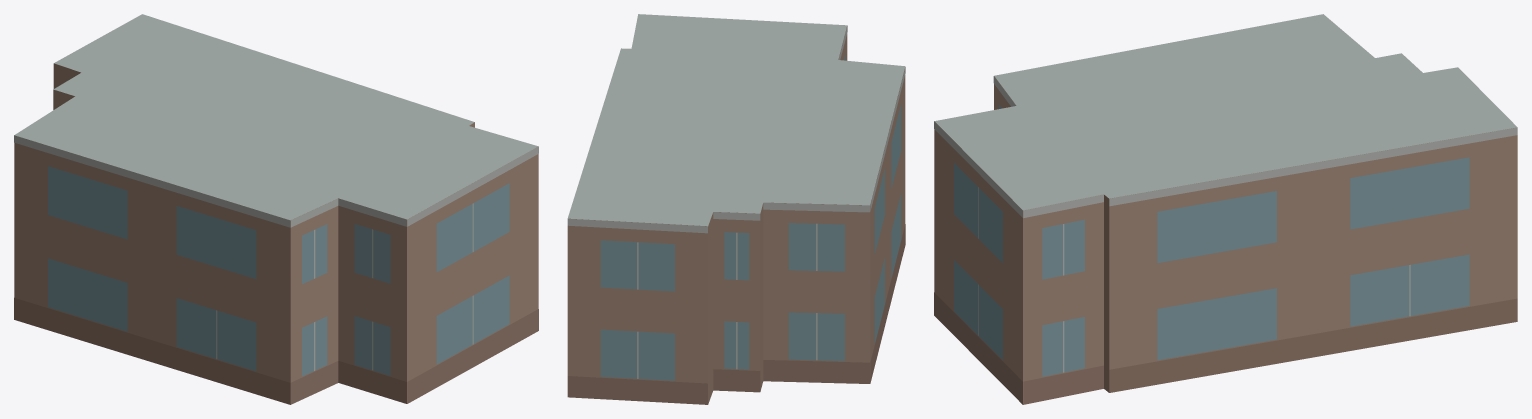
File: survey-upis-32608680.glb
The picture shows the model from 3 angles, left to right: view 1: azimuth 30°, elevation 25°; view 2: azimuth 150°, elevation 25°; view 3: azimuth 270°, elevation 25°; orthographic projection. The views are drawn at different scales.
Parts seen in each view (by area): view 1: survey-upis-32608680.tmp; view 2: survey-upis-32608680.tmp; view 3: survey-upis-32608680.tmp.
Part boxes in pixels (<box>): survey-upis-32608680.tmp: <box>14,14,538,404</box>; survey-upis-32608680.tmp: <box>567,14,905,404</box>; survey-upis-32608680.tmp: <box>934,14,1517,404</box>.
Size of the model in its own units: 13.23 by 6.1 by 16.6.
